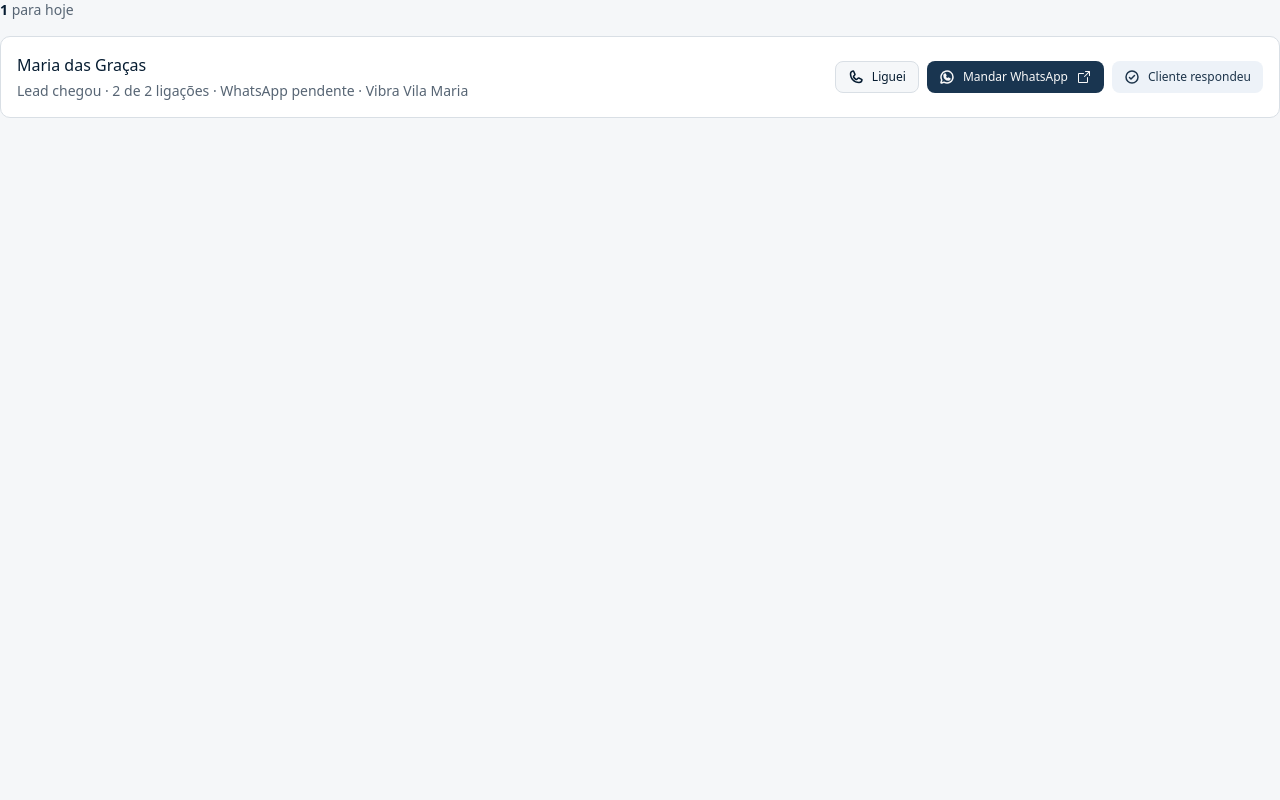
Test case: Cliente respondeu: para onde o lead vai › no diálogo: lead em Aguardando atendimento vai para atendimento
Later steps or results of the test are not shown.
Click the button "Cliente respondeu" at x=1188, y=77, box [1112,61,1263,93]
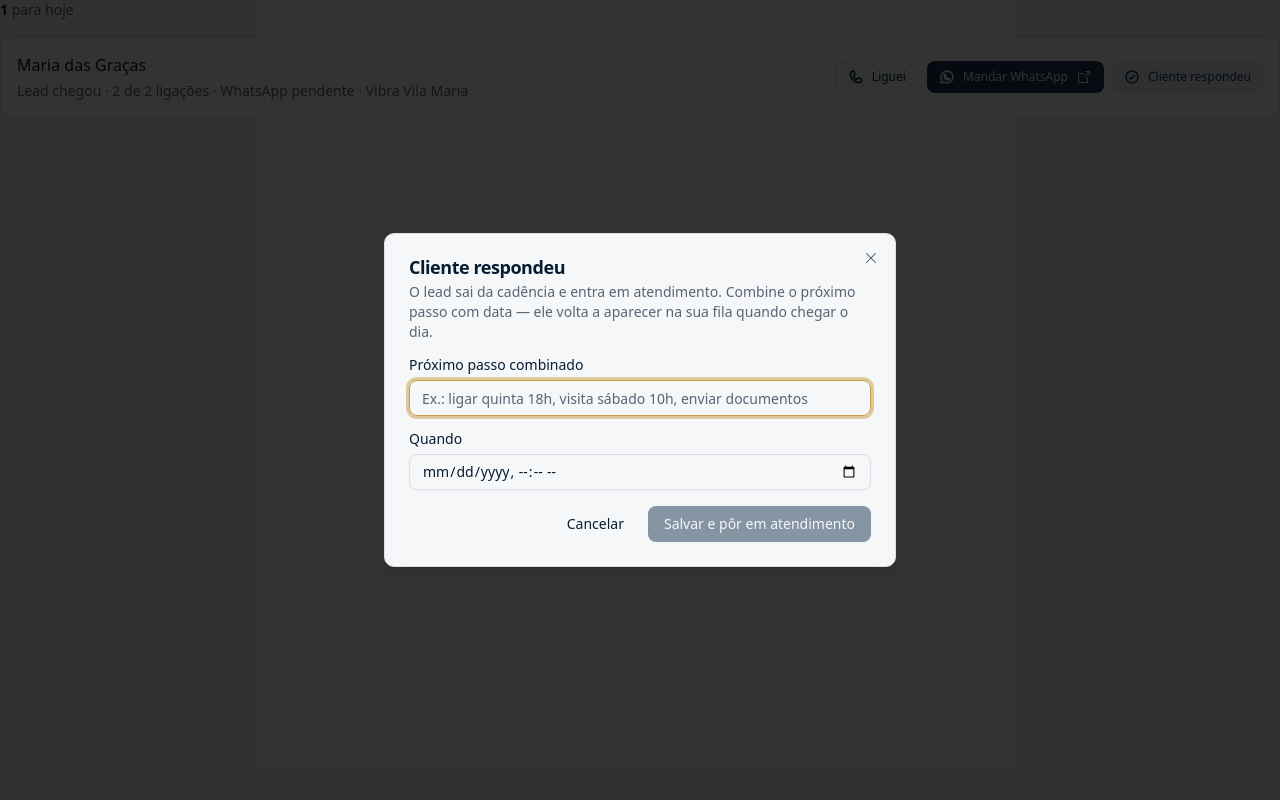
Expected: the dialog shows "O lead sai da cadência e entra em atendimento.", [409,282,722,301]
